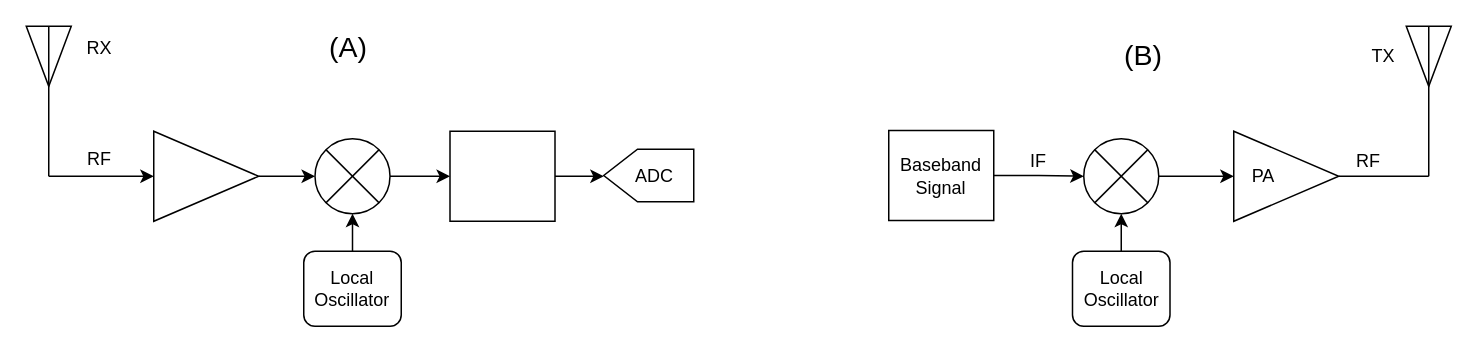
This 1478x353 diagram has some shape labels left out. The shapes that lost their labels are listed below. From the top down, each one's centre as x and y in pixels, then its label:
pixel 205 175: LNA
pixel 501 175: IF Filter
